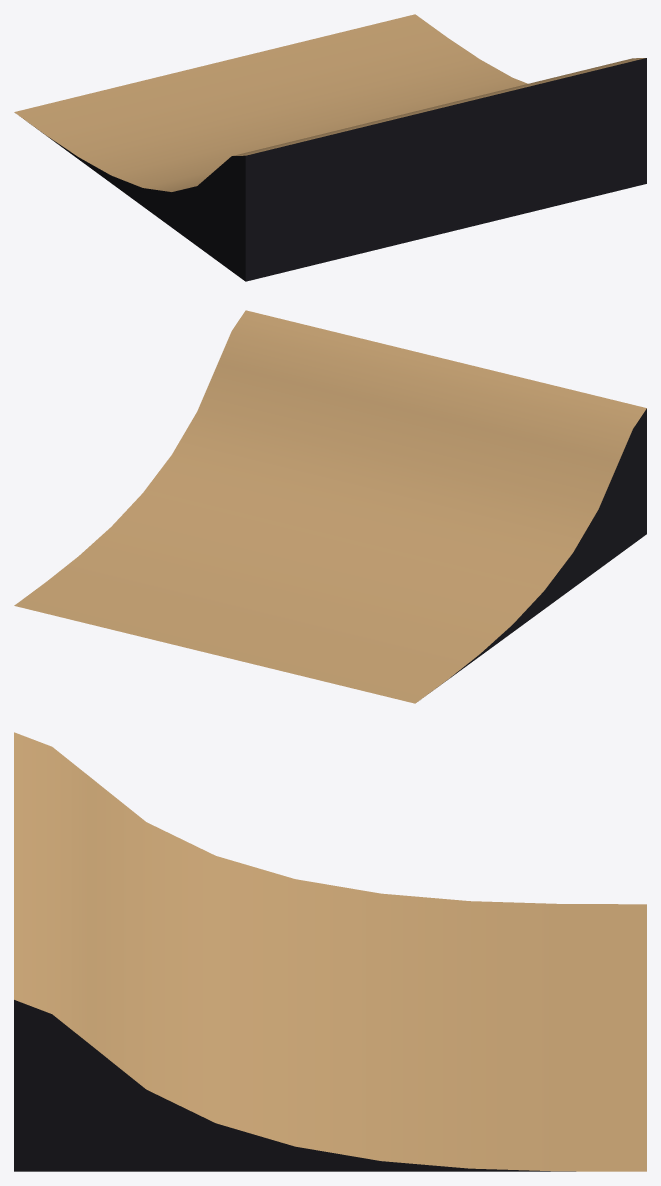
File: Quater_SML_Trans_Full.fbx
3 renders of one model, top to bottom at view 1: azimuth 30°, elevation 25°; view 2: azimuth 150°, elevation 25°; view 3: azimuth 270°, elevation 25°, orthographic. The views are drawn at different scales.
Visible parts, largest first — view 1: Quater_SML_Trans_Full; view 2: Quater_SML_Trans_Full; view 3: Quater_SML_Trans_Full.
Part boxes in pixels (left/top/right/bottom): Quater_SML_Trans_Full: left=14, top=14, right=646, bottom=281; Quater_SML_Trans_Full: left=14, top=310, right=646, bottom=703; Quater_SML_Trans_Full: left=14, top=732, right=646, bottom=1171.
Bounding box in the file's own units: 10 × 3 × 10.
